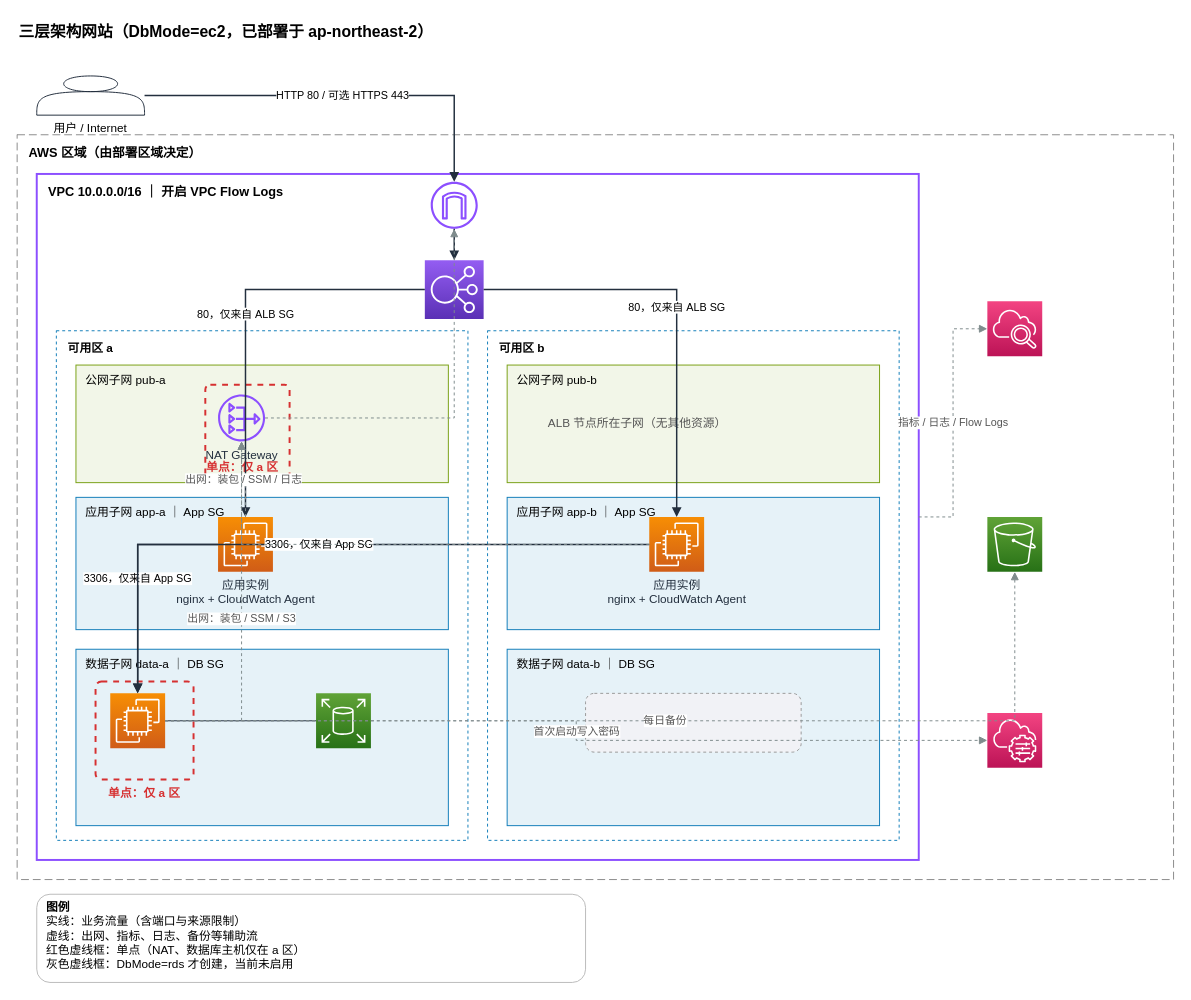
Some shapes in this 1191 by 1000 pixel diagram are drawn without their labels. The shapes that lost their labels are listed below. From the top down, each one's centre as x and y in pixels, then its label:
At (x=453, y=204): "Internet Gateway".
At (x=454, y=289): "ALB（跨 pub-a / pub-b） ALB SG：80，可选 443".
At (x=1014, y=328): "CloudWatch 6 个告警 + 日志组 （告警无通知）".
At (x=1014, y=544): "S3 备份桶 每日 mysqldump".
At (x=137, y=720): "数据库主机 EC2 MariaDB 10.11".
At (x=343, y=720): "加密数据卷 /var/lib/mysql".
At (x=693, y=722): "RDS MySQL 仅 DbMode=rds，当前未启用".
At (x=1014, y=740): "SSM 参数库 数据库 admin 密码".
